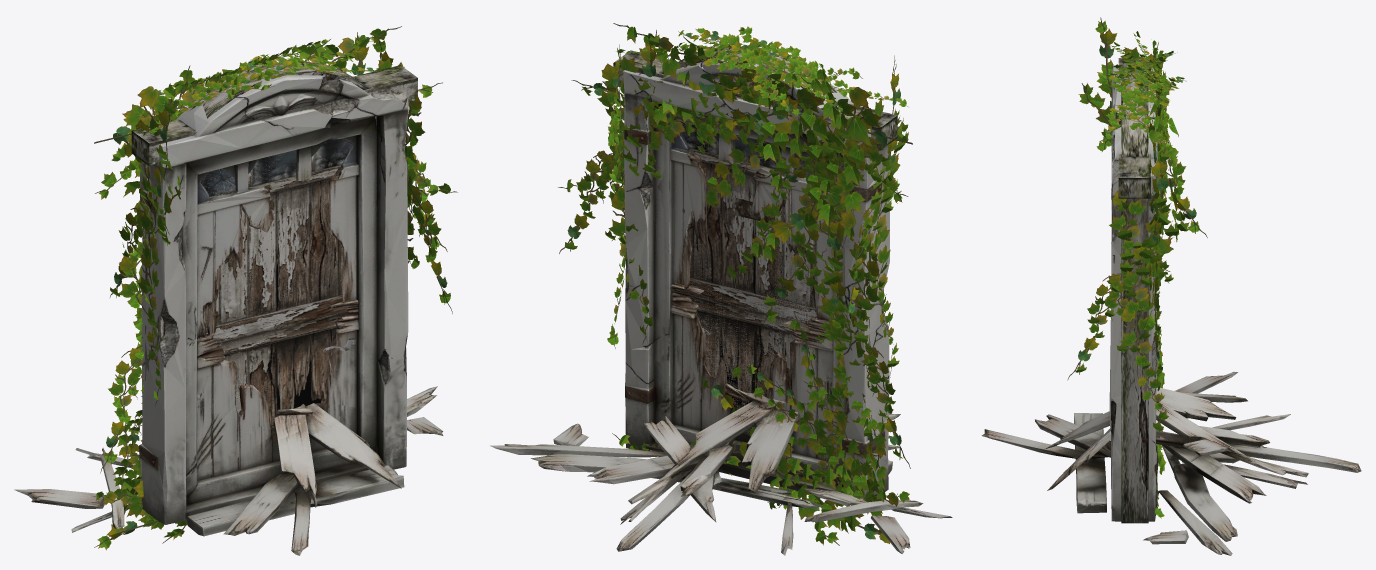
Rendered from P_Door_028_S1_M01.obj.
3 renders of one model, left to right at view 1: azimuth 30°, elevation 25°; view 2: azimuth 150°, elevation 25°; view 3: azimuth 270°, elevation 25°, orthographic. The views are drawn at different scales.
Size of the model in its own units: 3.44 by 3.84 by 2.95.
19 materials, 19 textured.
